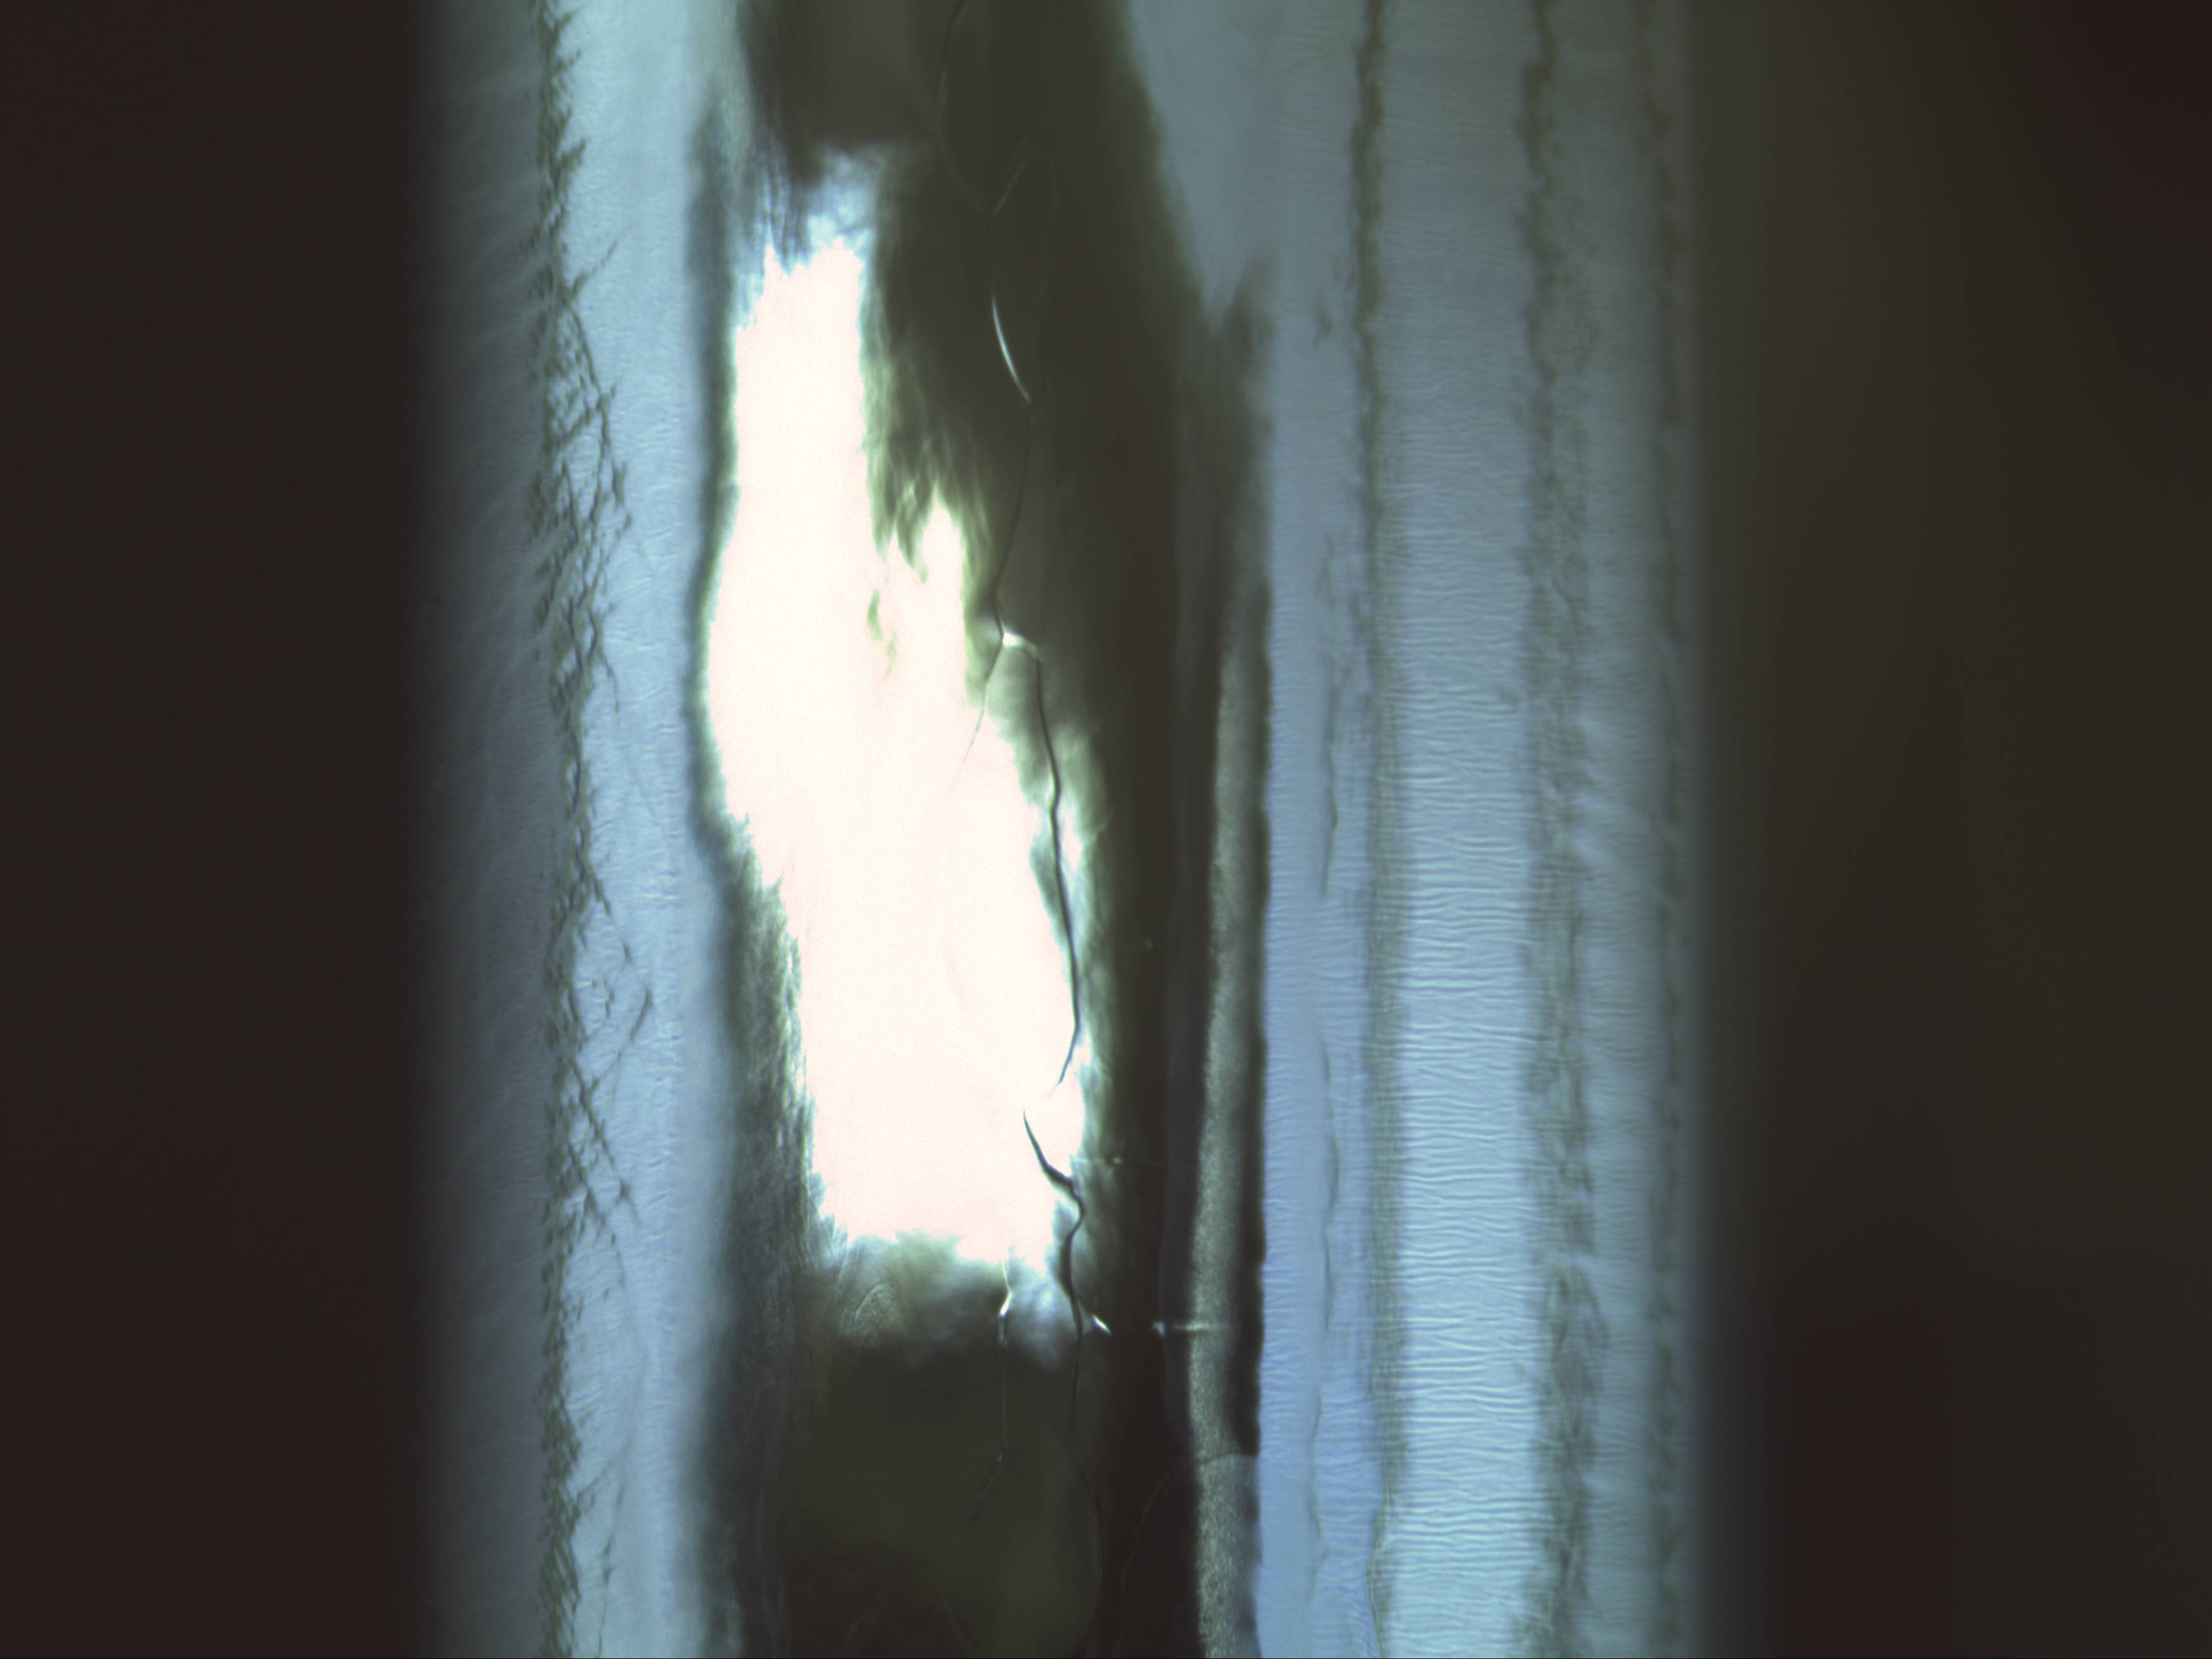defect: (1148, 1316, 1231, 1342)
